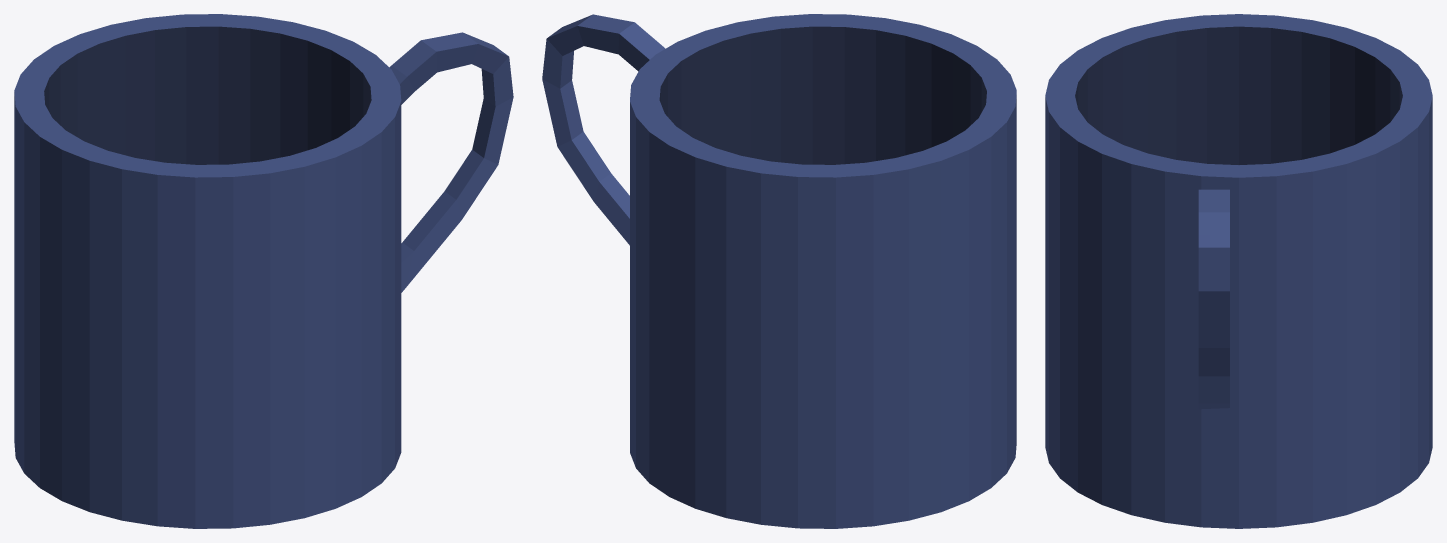
Rendered from cup.fbx.
The picture shows the model from 3 angles, left to right: view 1: azimuth 30°, elevation 25°; view 2: azimuth 150°, elevation 25°; view 3: azimuth 270°, elevation 25°; orthographic projection.
Visible parts, largest first — view 1: Cylinder; view 2: Cylinder; view 3: Cylinder.
Part boxes in pixels (x1,y1,x2,y2): Cylinder: [14, 14, 513, 528]; Cylinder: [542, 14, 1016, 528]; Cylinder: [1045, 14, 1432, 528].
Size of the model in its own units: 410 by 311 by 304.
